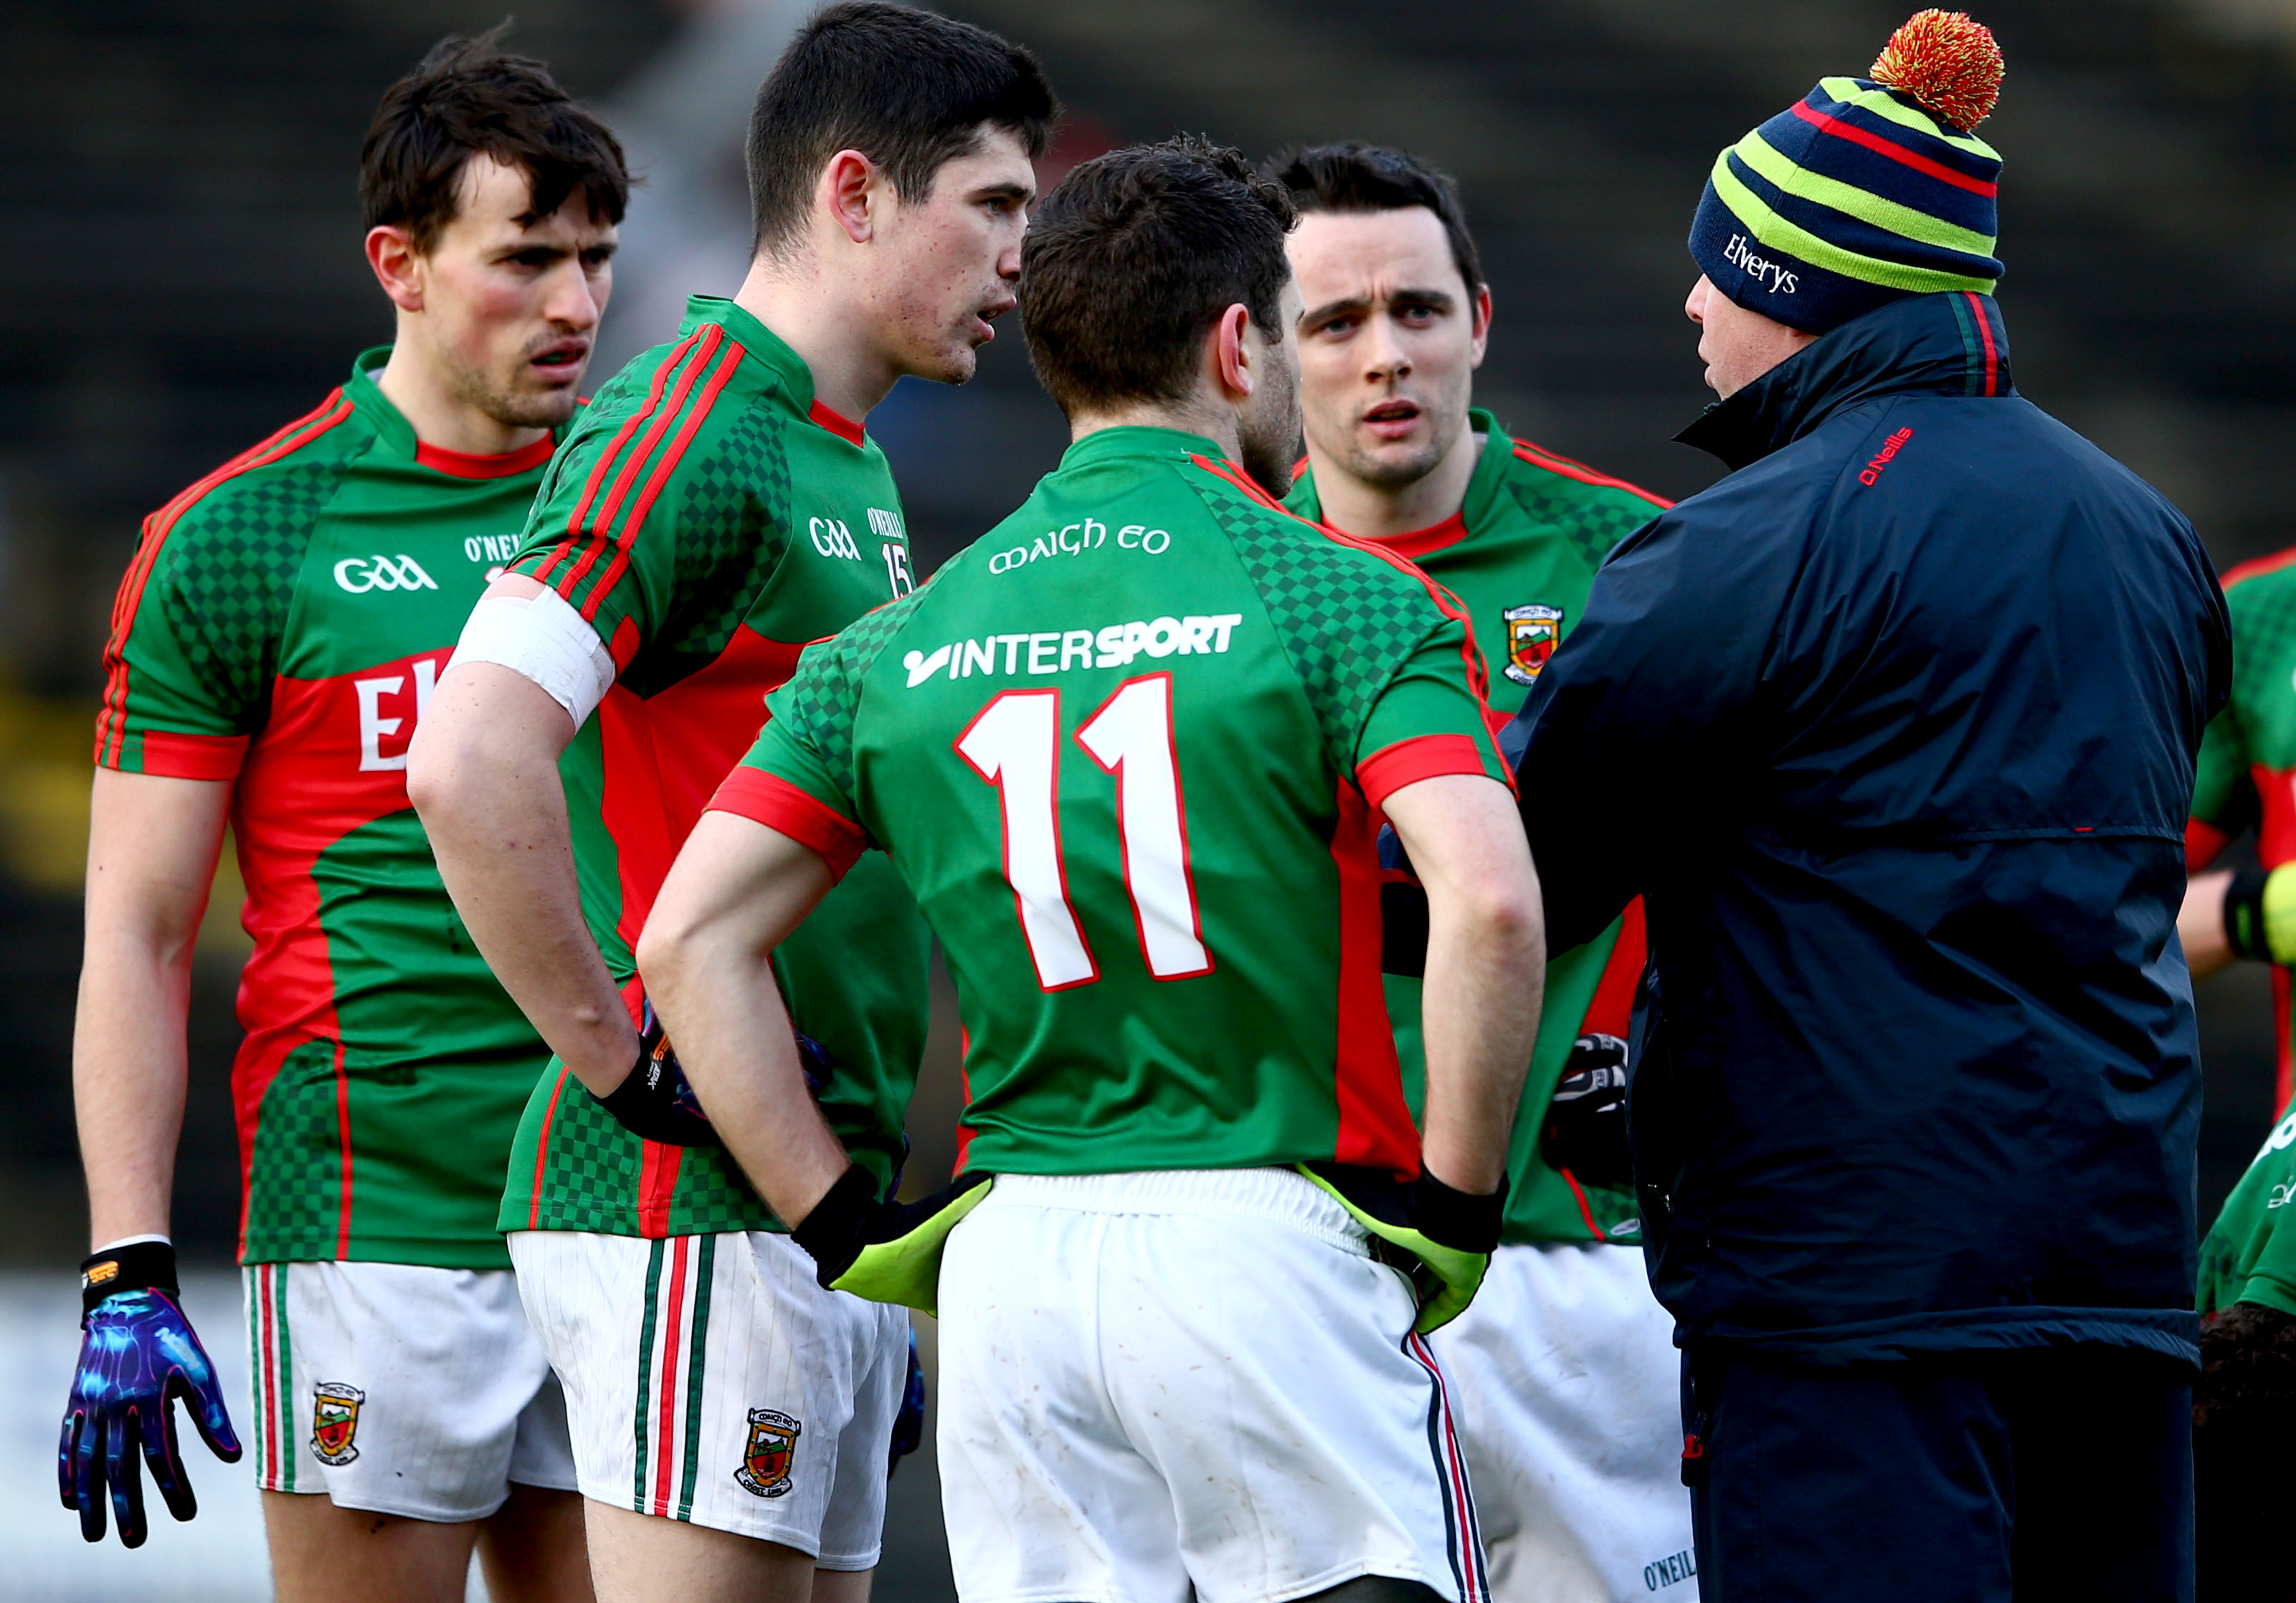player: (1561, 2, 2221, 1512), (882, 121, 1537, 1571), (169, 68, 665, 1567), (1219, 123, 1733, 1528), (564, 11, 987, 1523)
